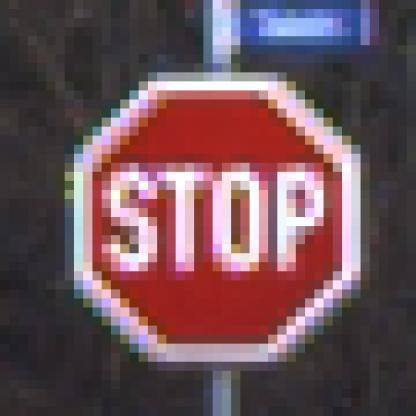Stop: (82, 82, 354, 352)
